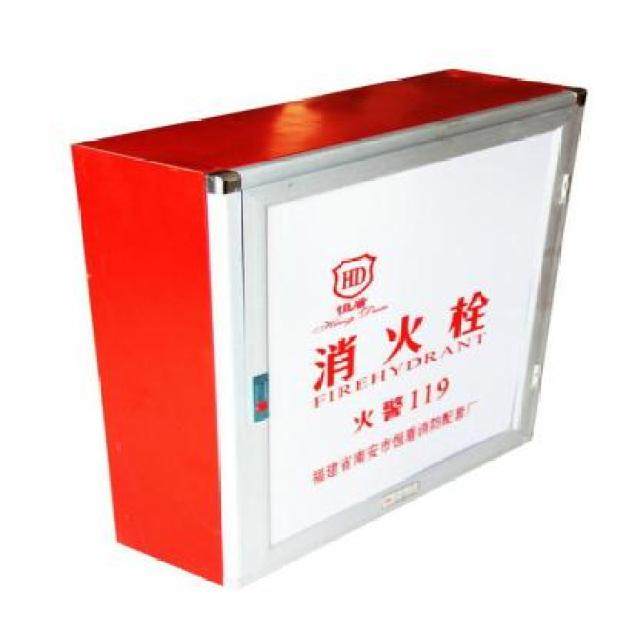firehydrant: (68, 65, 592, 594)
